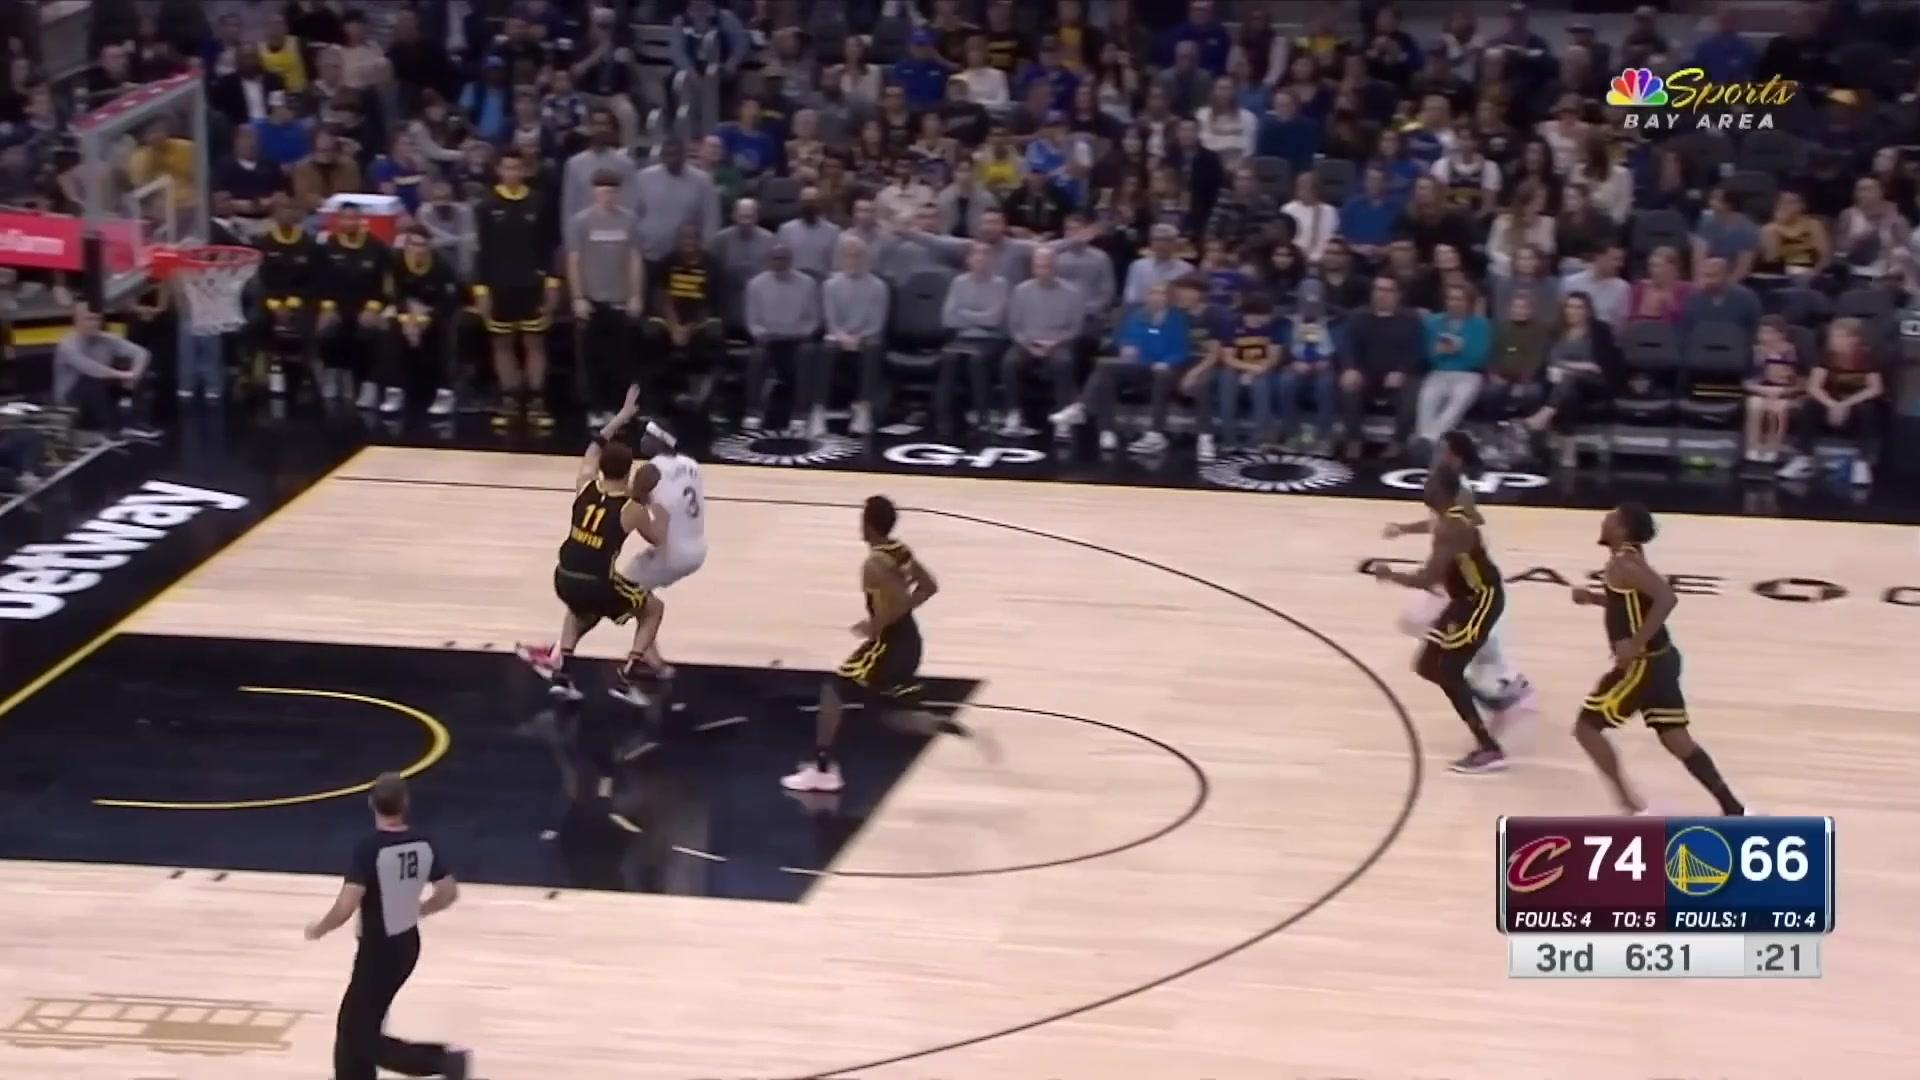foul: (518, 380, 745, 717)
